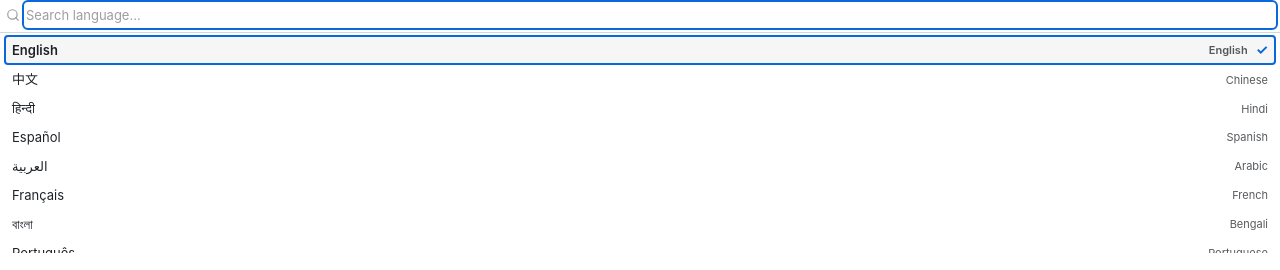
it: LanguagePicker › filtering › shows 'No languages found' when no match
The width and height of the screenshot is (1280, 270).
Type "zzzzz" into the dropdown labelled "Search language" at {"x": 650, "y": 15}, box top-left (26, 4), bottom-right (1274, 26)
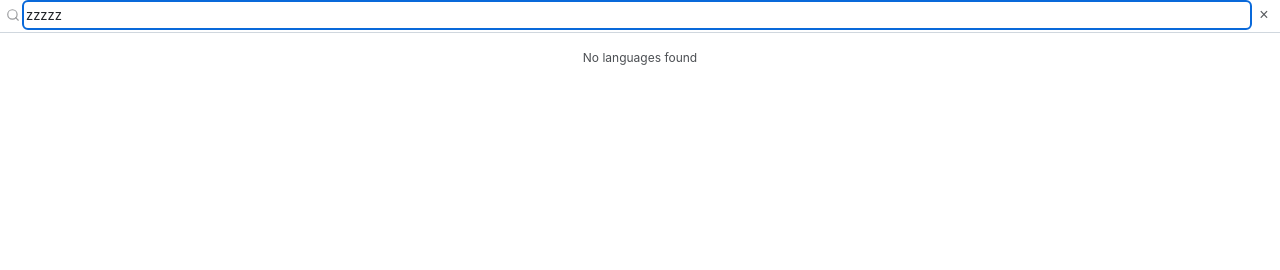
Check: the text "No languages found" is shown, box top-left (583, 50), bottom-right (697, 65)
Check: the option is gone
